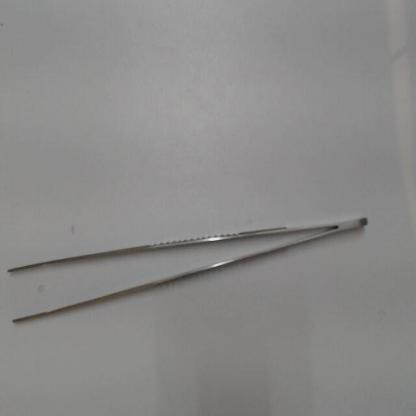DeBakey Dissector: (2, 207, 372, 333)
